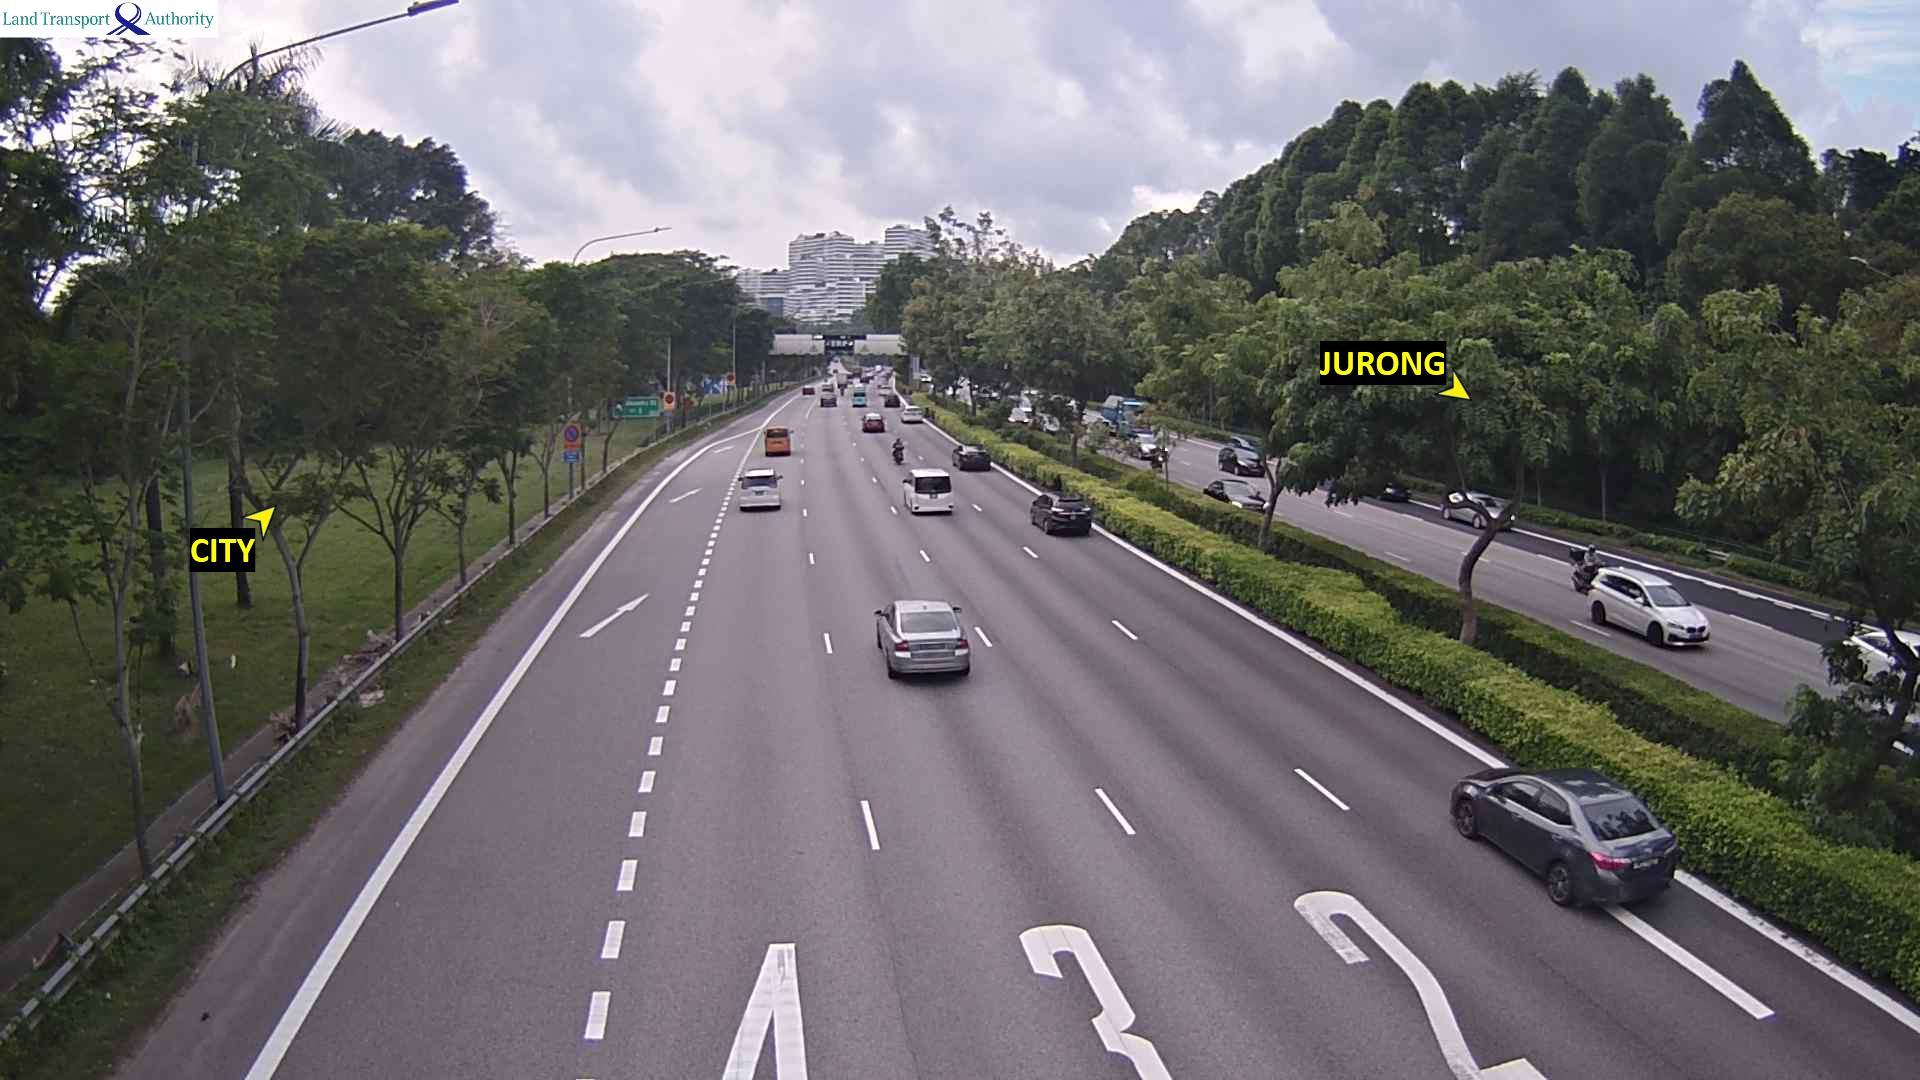incoming: (1628, 578, 1712, 645), (1219, 485, 1270, 512), (1228, 448, 1265, 481)
